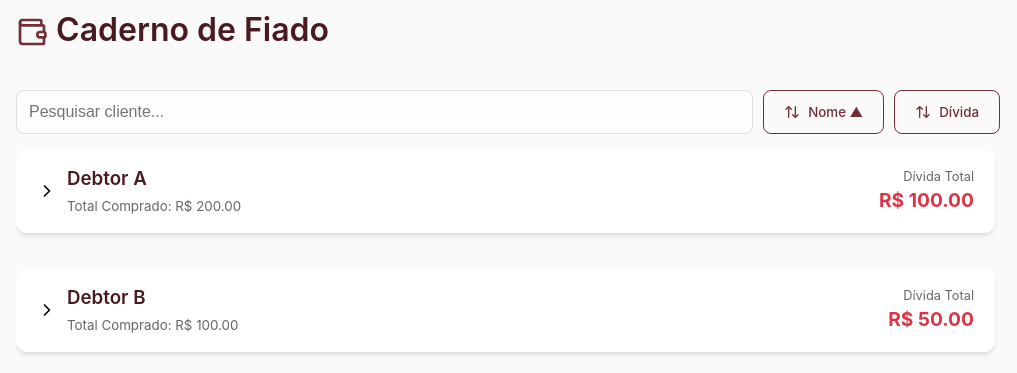
Scenario: Debts Component › filters debts by search
Expected: the heading "Debtor A" is shown, [67, 167, 147, 190]
In the field with placeholder "Pesquisar cliente...": point(385, 112) [16, 90, 753, 134], type "Debtor B"
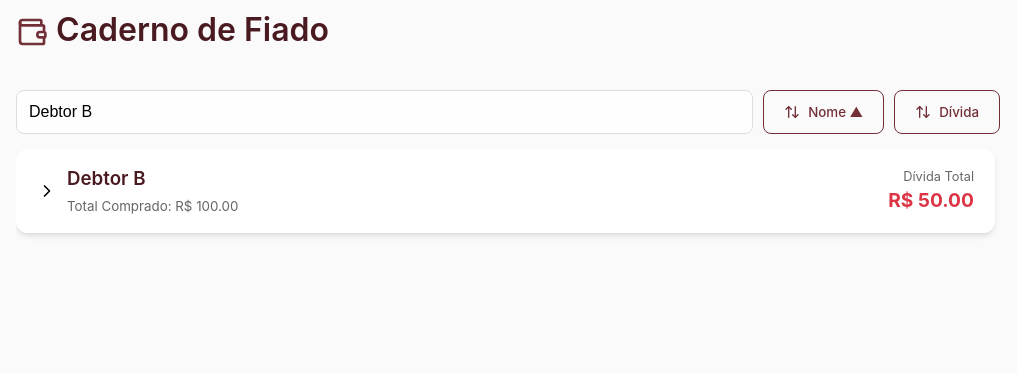
Expected: the heading "Debtor B" is shown, [67, 167, 146, 190]
Expected: the heading "Debtor A" is gone
